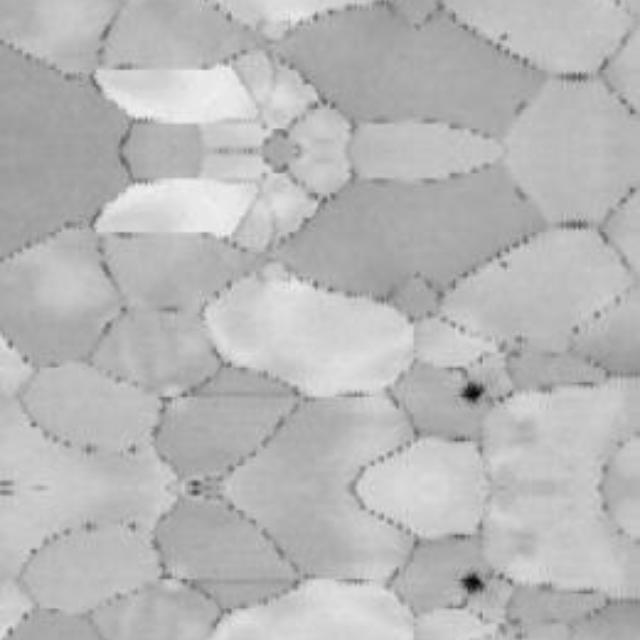good_void: (459, 385, 488, 407), (459, 571, 488, 593)
